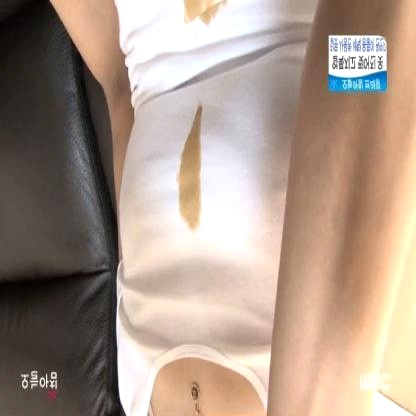coffee: (185, 137, 199, 228)
